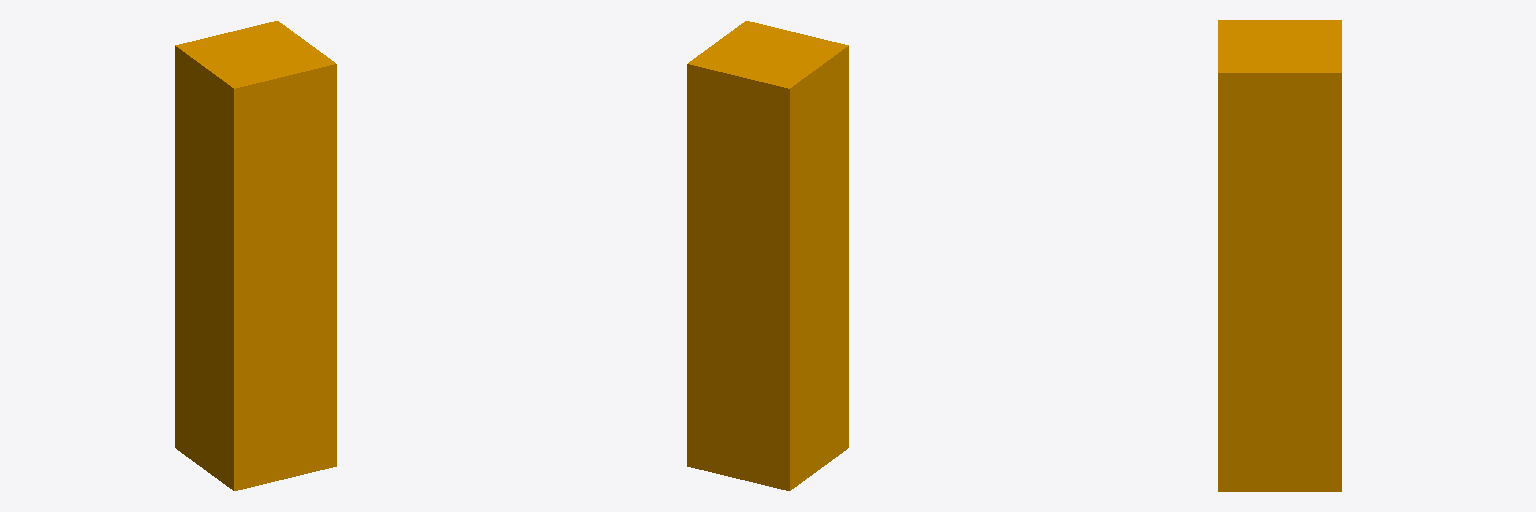
URDF robot description (box):
<?xml version='1.0' encoding='UTF-8'?>
<robot name="box">
  <link name="base_link">
    <inertial>
      <origin xyz="0.0 0.0 0.0" rpy="0.0 -0.0 0.0"/>
      <mass value="1.0"/>
      <inertia ixx="1.0" ixy="0.0" ixz="0.0" iyy="1.0" iyz="0.0" izz="1.0"/>
    </inertial>
    <visual name="base_link_visual">
      <geometry>
        <box size="0.4 0.4 1.5"/>
      </geometry>
      <origin xyz="0 0 0.75" rpy="0 0 0"/>
    </visual>
    <collision name="base_link_collision">
      <geometry>
        <box size="0.4 0.4 1.5"/>
      </geometry>
      <origin xyz="0 0 0.75" rpy="0 0 0"/>
    </collision>
  </link>
</robot>

--- Render facts (derived) ---
Views: 3 orthographic renders of the robot side by side, from view 1: azimuth 30°, elevation 25°; view 2: azimuth 150°, elevation 25°; view 3: azimuth 270°, elevation 25°.
Model box with 1 links and 0 joints (none), rooted at base_link, posed all joints at 0.
Links seen in each view (by area): view 1: base_link; view 2: base_link; view 3: base_link.
Boxes of the visible links, x1,y1,x2,y2 form: base_link: (175,21,336,490); base_link: (687,21,848,490); base_link: (1218,20,1341,491).
Bounding box of the posed robot: 0.4 × 0.4 × 1.5 m (x, y, z).
Geometry: primitives only (box / cylinder / sphere), no mesh files.